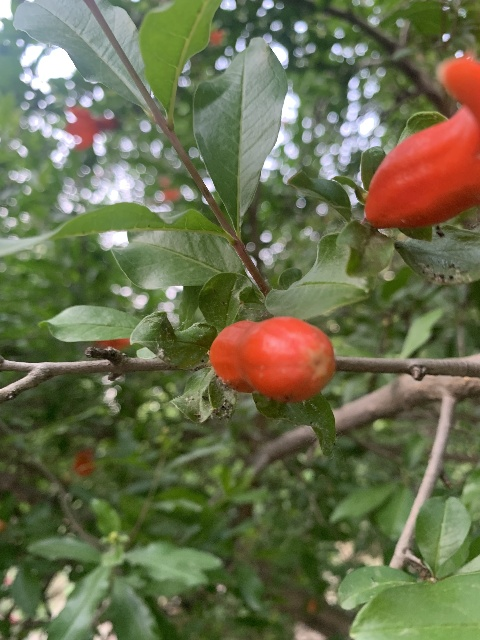bud: (209, 316, 336, 403)
flower: (366, 46, 480, 226), (63, 106, 117, 150)
